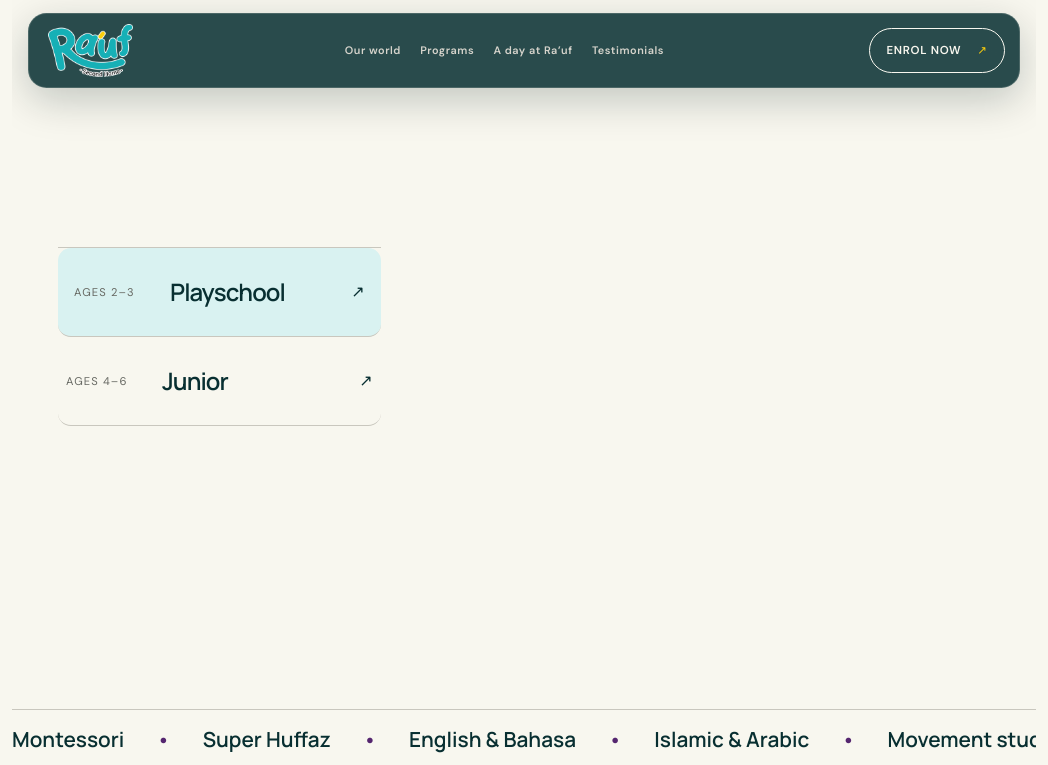
Scenario: switches between program content
This screenshot has width=1048, height=765.
(page scrolled)
Click the tab "Ages 4–6 Junior ↗".
click(219, 382)  # box left=58, top=337, right=381, bottom=426
(page scrolled)
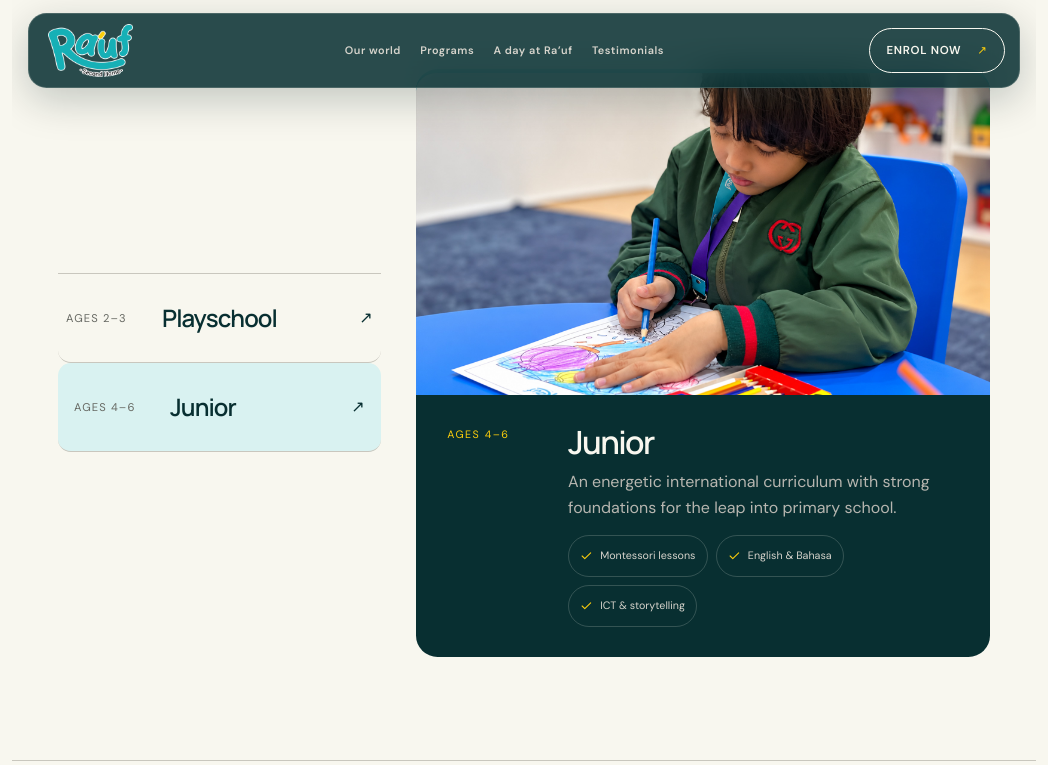
Now the panel shows "ICT & storytelling", box left=600, top=598, right=685, bottom=612
